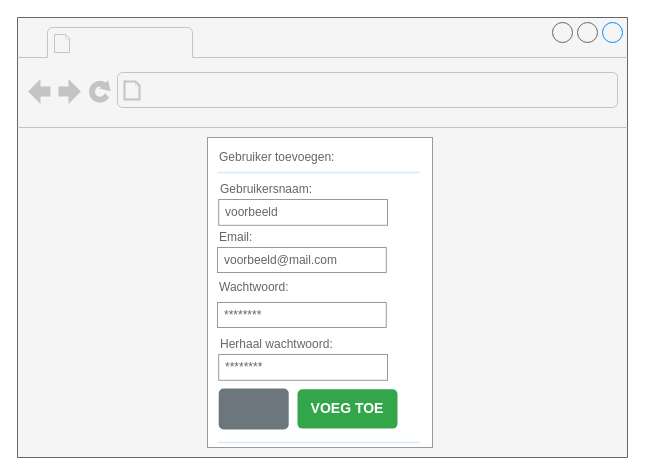
The diagram is 645 pixels wide and 475 high, and some of its shapes have lost their labels. The shapes that lost their labels are listed below. From the top down, each one's centre as x and y in pixels, then its label:
point 132,42: Page 1
point 272,90: http://localhost/gebruikertoevoegen.php
point 253,408: Sluit
